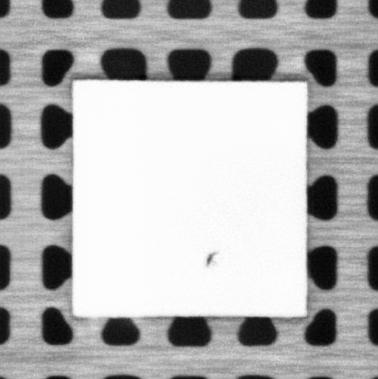DIE_INK: (205, 249, 216, 268)
